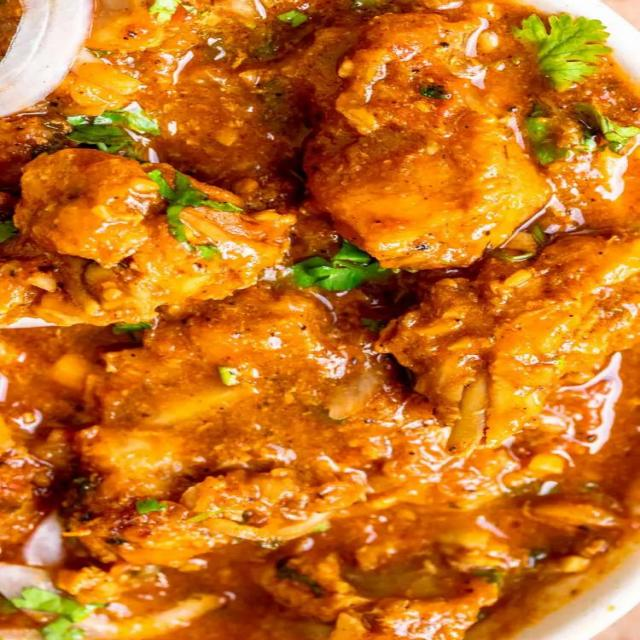chicken: (17, 8, 623, 630)
